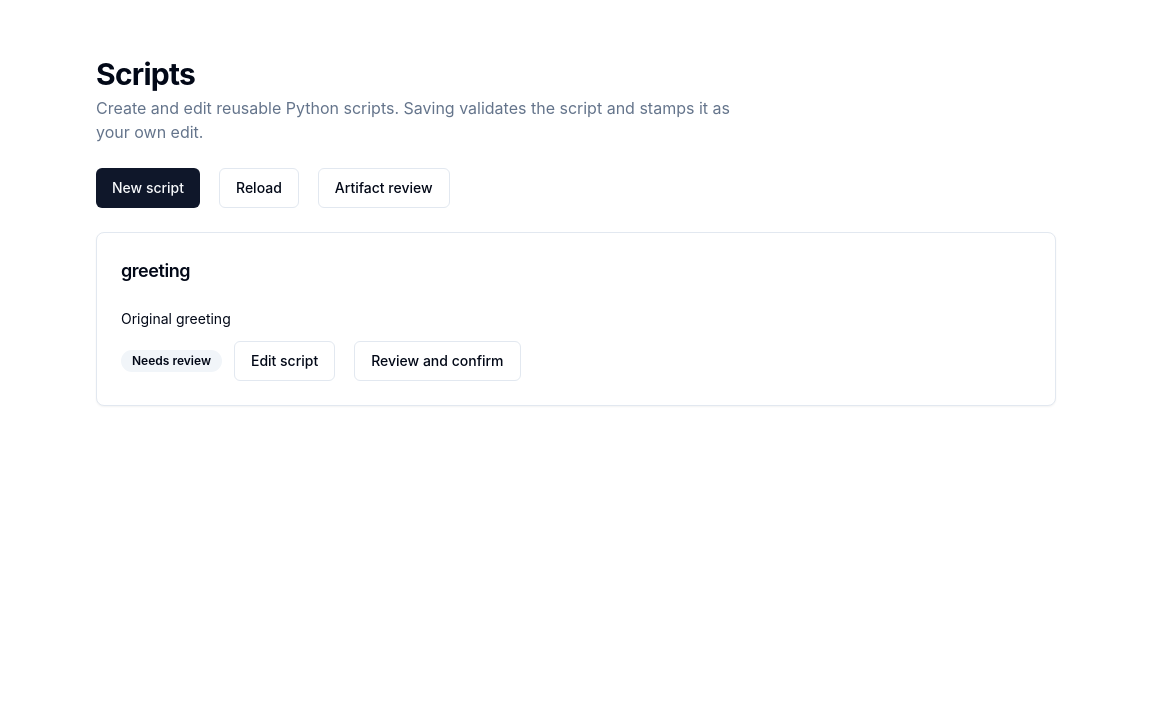
Test case: Script editor › rejects malformed parameter JSON without sending it
Click the button "Edit script" at (285, 361), box [234, 341, 335, 381]
(page scrolled)
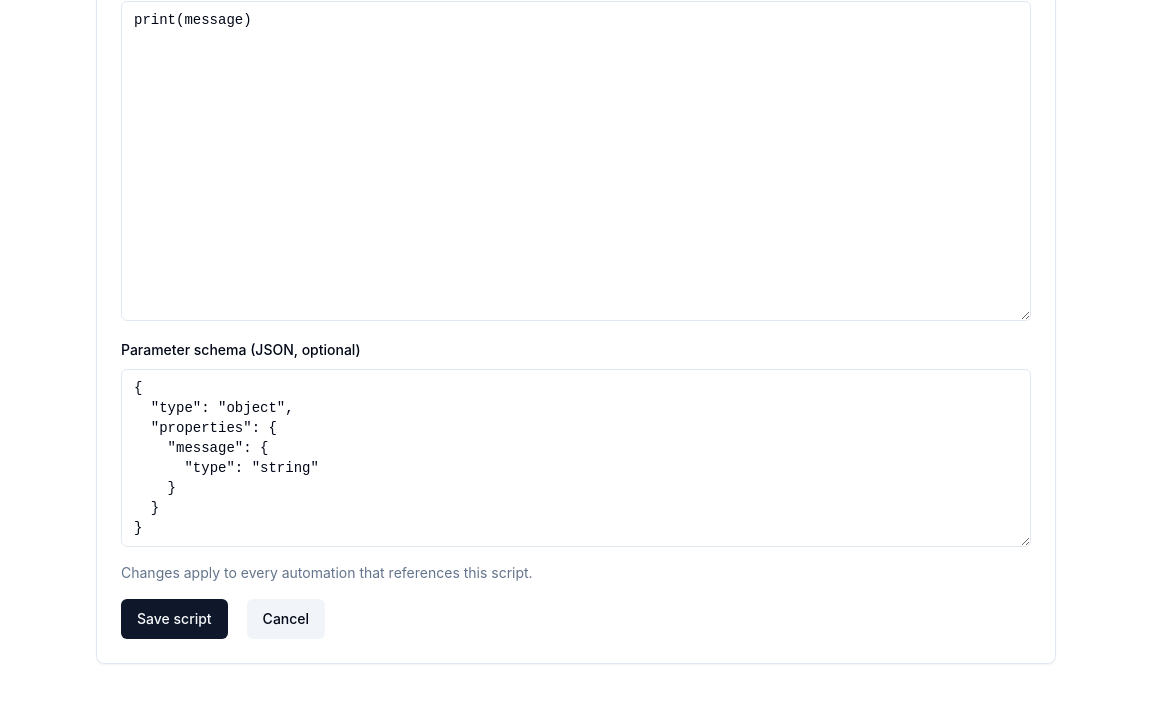
Replace the text in the text box labelled "Parameter schema (JSON, optional)" with "[1]" at (576, 458), box [121, 369, 1031, 547]
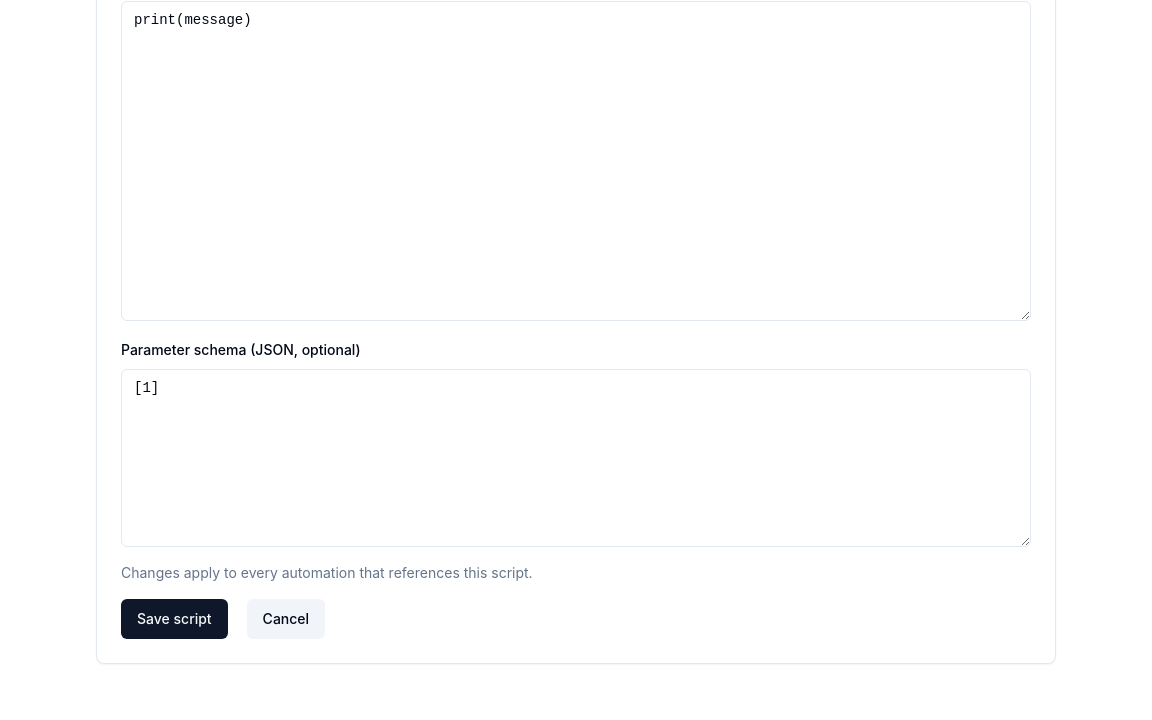
Click the button "Save script" at (174, 619), box [121, 599, 228, 639]
(page scrolled)
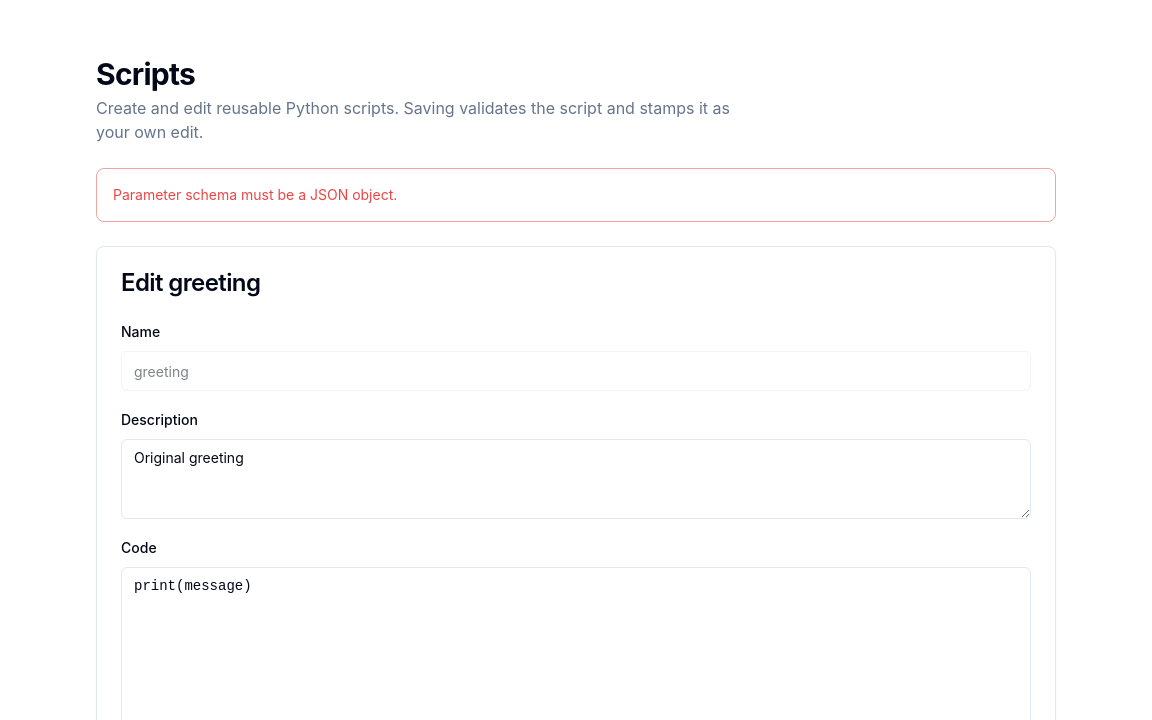
Expected: the text "Parameter schema must be a JSON object." is shown, [113, 186, 397, 203]
